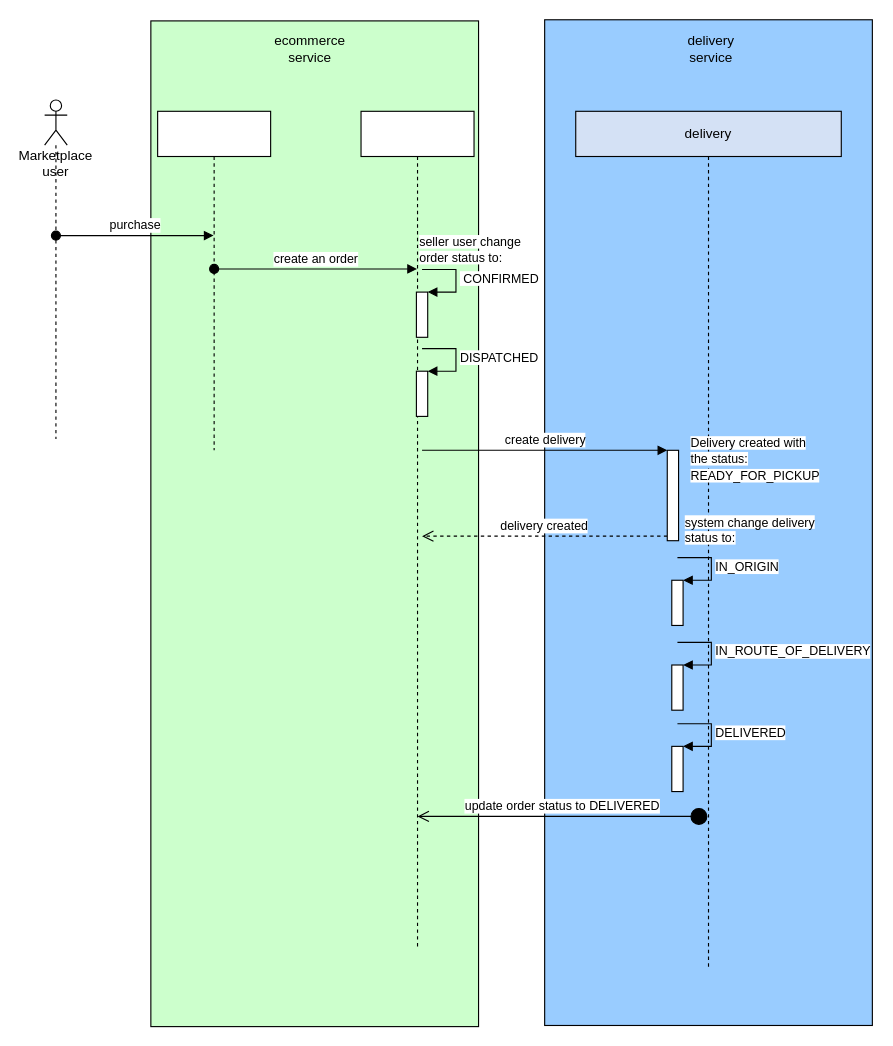
The diagram is 893 pixels wide and 1046 high, and some of its shapes have lost their labels. The shapes that lost their labels are listed below. From the top down, each one's box as (x1, y1, x2, y2) in pixels, then its label:
(157, 110, 271, 450): marketplace
(360, 110, 474, 948): order
